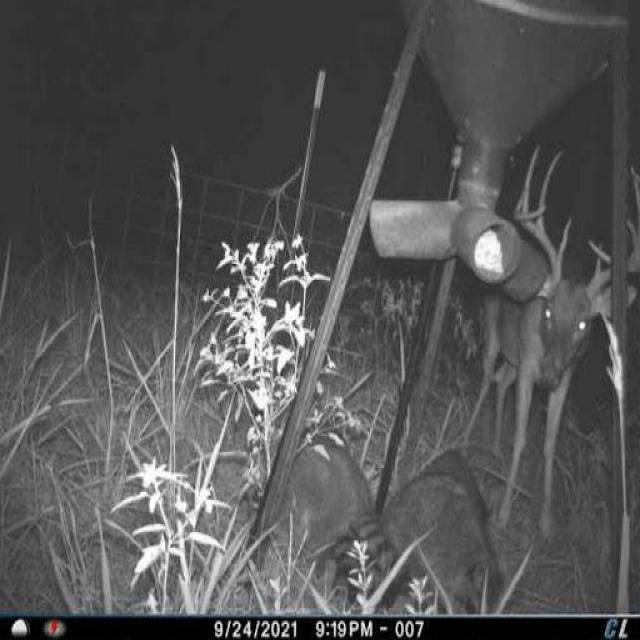deer: (459, 139, 640, 544)
